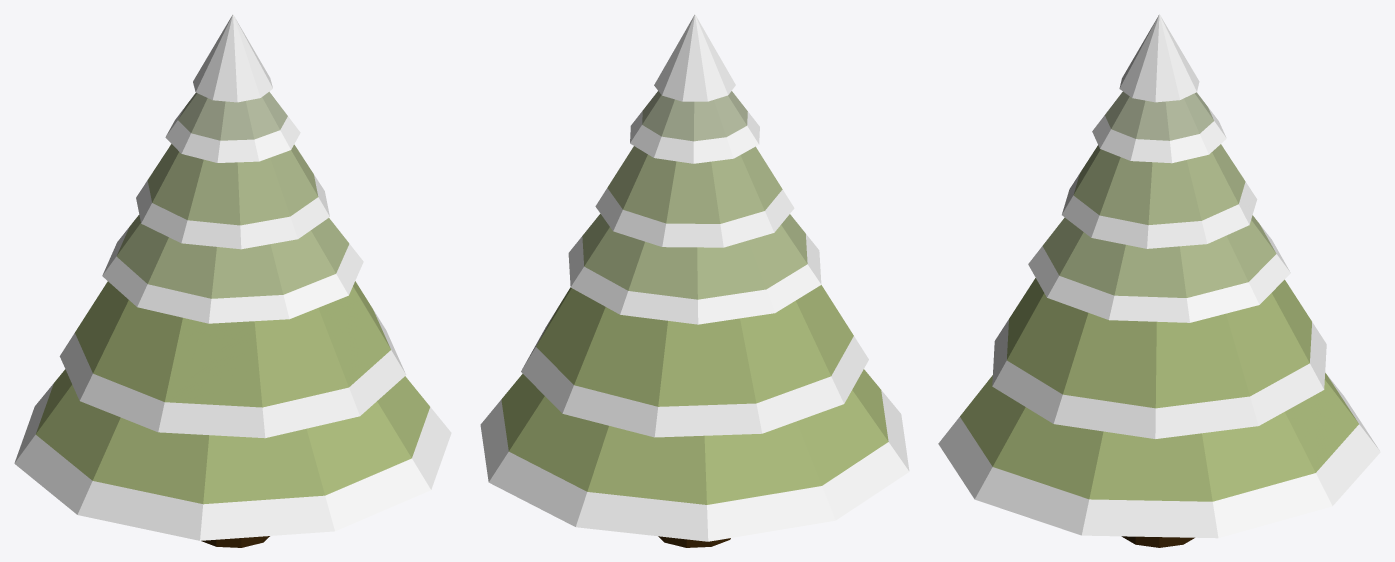
File: green_tree_snow4.glb
3 renders of one model, left to right at view 1: azimuth 30°, elevation 25°; view 2: azimuth 150°, elevation 25°; view 3: azimuth 270°, elevation 25°, orthographic.
Parts seen in each view (by area): view 1: Tree01_Yellow_Grey_Tree_06_0, Tree01_White1_0, Tree01_Yellow_Grey_Tree_05_0, Tree01_Yellow_Grey_Tree_04_0; view 2: Tree01_Yellow_Grey_Tree_06_0, Tree01_White1_0, Tree01_Yellow_Grey_Tree_05_0, Tree01_Yellow_Grey_Tree_04_0; view 3: Tree01_Yellow_Grey_Tree_06_0, Tree01_White1_0, Tree01_Yellow_Grey_Tree_05_0, Tree01_Yellow_Grey_Tree_04_0, Tree01_Brown06_0.
Part boxes in pixels (x1,y1,x2,y2): Tree01_Yellow_Grey_Tree_06_0: (35, 281, 429, 504); Tree01_White1_0: (14, 14, 451, 540); Tree01_Yellow_Grey_Tree_05_0: (116, 144, 349, 298); Tree01_Yellow_Grey_Tree_04_0: (178, 91, 287, 140); Tree01_Yellow_Grey_Tree_06_0: (501, 285, 888, 504); Tree01_White1_0: (480, 14, 909, 541); Tree01_Yellow_Grey_Tree_05_0: (582, 146, 807, 299); Tree01_Yellow_Grey_Tree_04_0: (642, 91, 747, 141); Tree01_Yellow_Grey_Tree_06_0: (960, 278, 1358, 501); Tree01_White1_0: (938, 14, 1380, 538); Tree01_Yellow_Grey_Tree_05_0: (1042, 144, 1276, 297); Tree01_Yellow_Grey_Tree_04_0: (1105, 91, 1213, 140); Tree01_Brown06_0: (1121, 536, 1194, 547).
Bounding box in the file's own units: 5.82 × 7.77 × 6.03.
